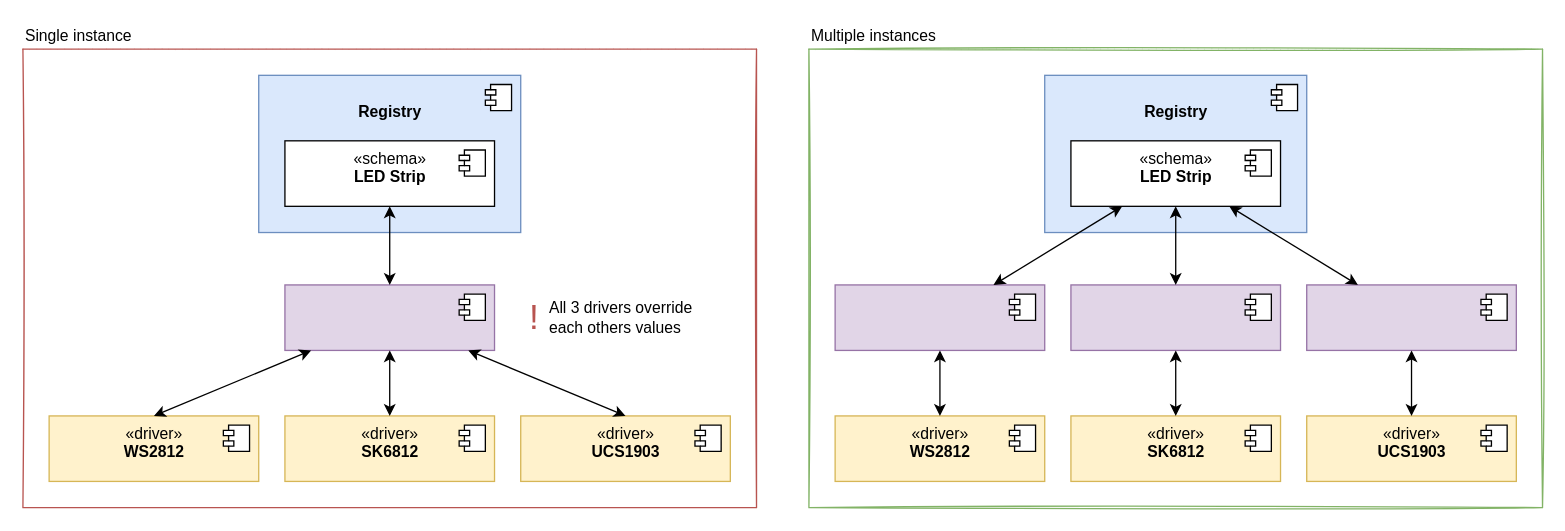
Some shapes in this 1565 by 531 pixel diagram are drawn without their labels. Each missing label, with the centre of its shape:
"«instance» LED Strip" belongs at [389,317].
"«instance» LED Strip 0" belongs at [939,317].
"«instance» LED Strip 1" belongs at [1175,317].
"«instance» LED Strip 2" belongs at [1410,317].
